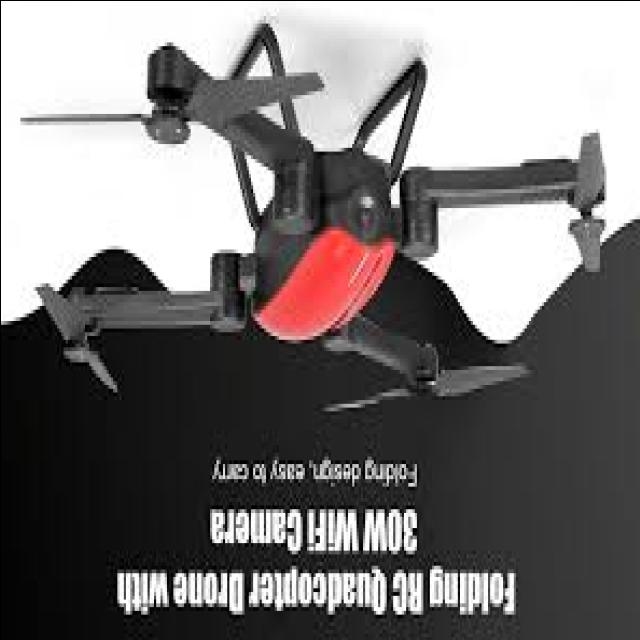drone: (11, 1, 608, 426)
